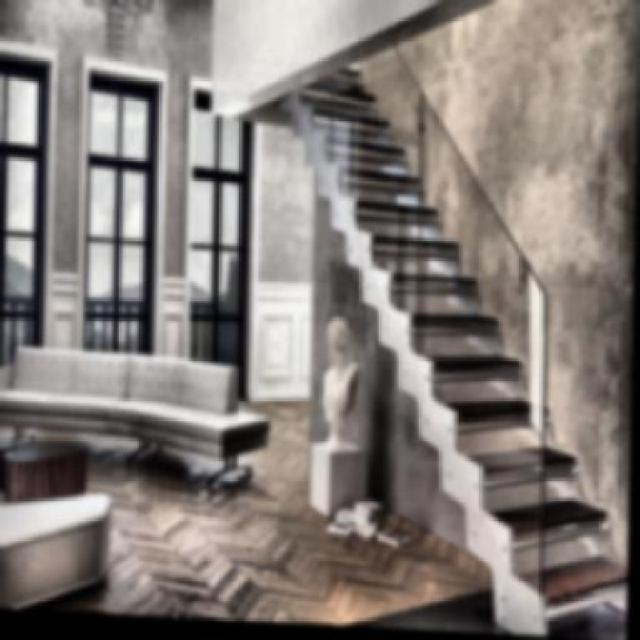stair: (430, 280, 635, 638)
